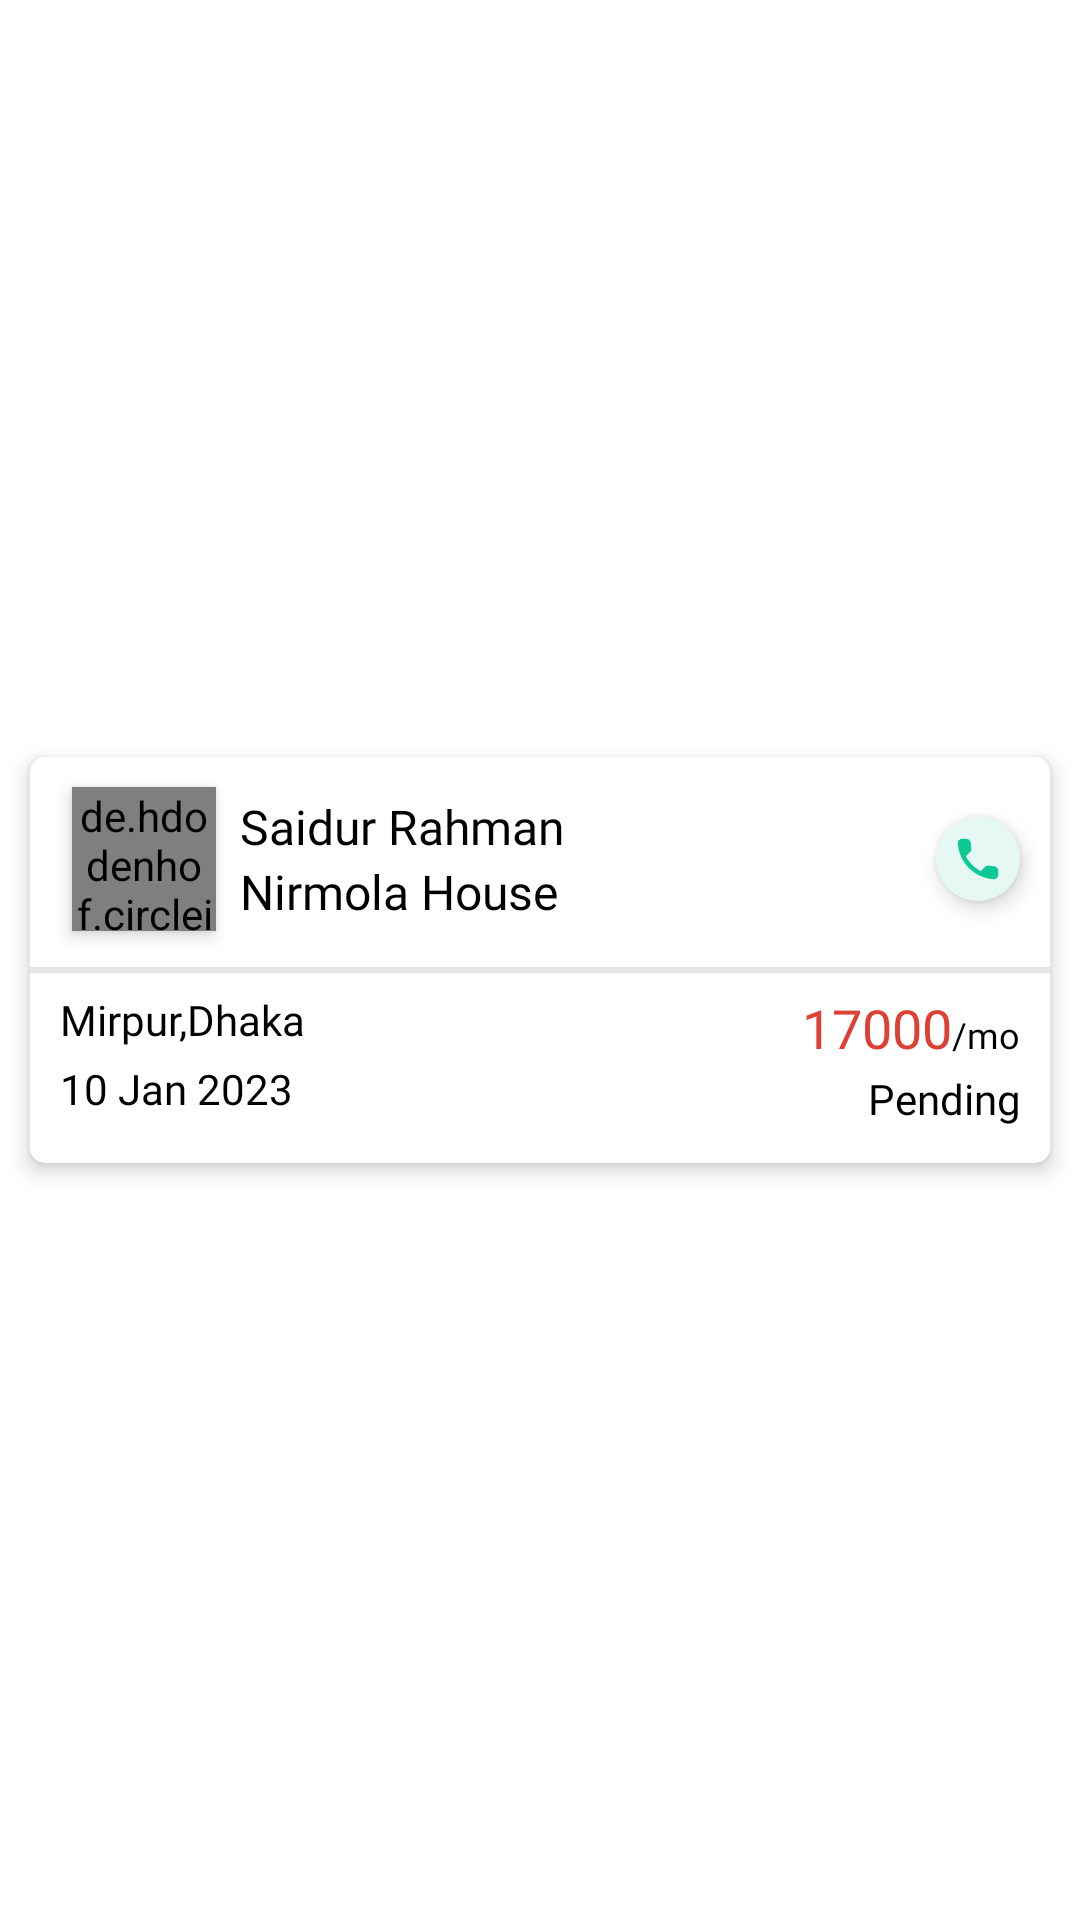

Point at icon controls on the screen. Image size 1080 x 1920, points as (x,y).
call: (978,859)
